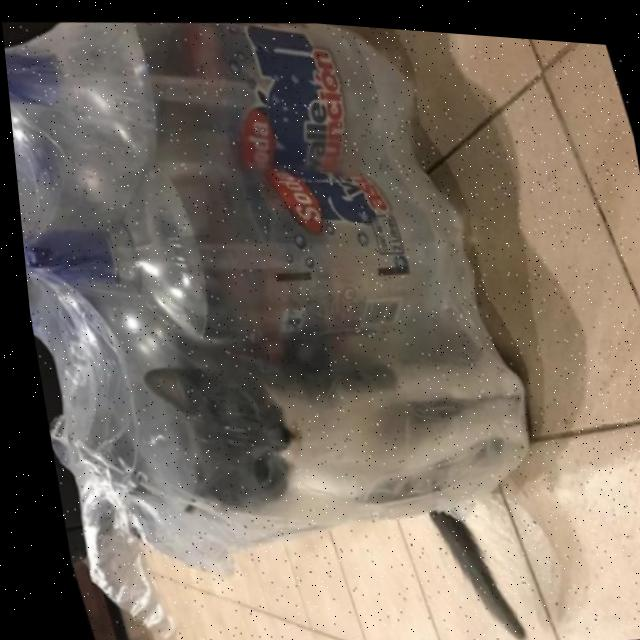Cats: (58, 241, 601, 579)
